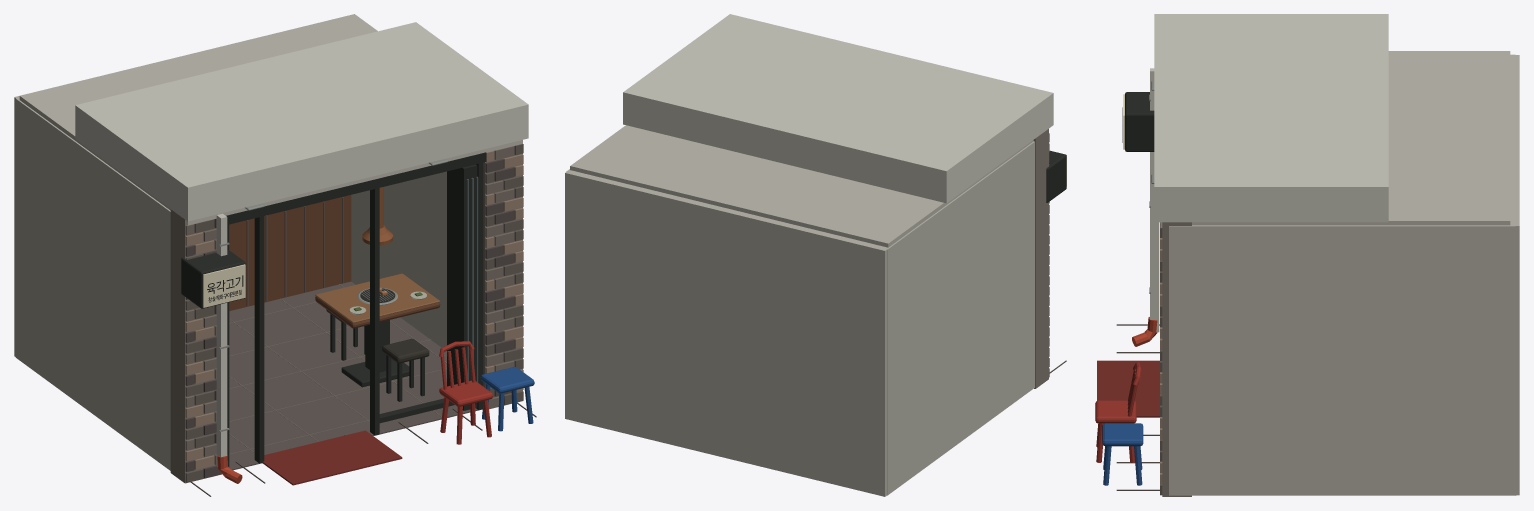
The model's file is shop.glb.
3 views of the same model, side by side, from view 1: azimuth 30°, elevation 25°; view 2: azimuth 150°, elevation 25°; view 3: azimuth 270°, elevation 25° (orthographic). The views are drawn at different scales.
Visible parts, largest first — view 1: Surface; view 2: Surface; view 3: Surface.
Part boxes in pixels (x1,y1,x2,y2): Surface: (14, 14, 536, 496); Surface: (565, 14, 1066, 496); Surface: (1095, 14, 1519, 496).
Bounding box in the file's own units: 3.59 × 3 × 3.71.
